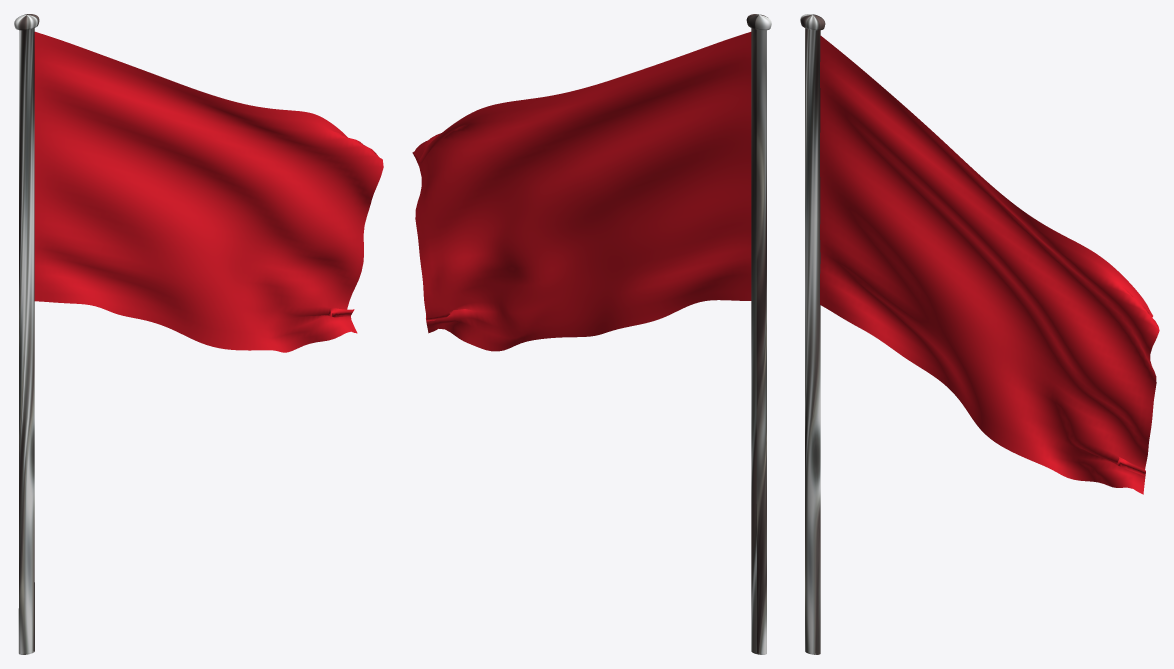
Rendered from flag_red.glb.
The picture shows the model from 3 angles, left to right: view 1: azimuth 30°, elevation 25°; view 2: azimuth 150°, elevation 25°; view 3: azimuth 330°, elevation 25°; orthographic projection.
Parts seen in each view (by area): view 1: Plane013_3, Cylinder013_2; view 2: Plane013_3, Cylinder013_2; view 3: Plane013_3, Cylinder013_2.
Boxes of the visible parts, x1,y1,x2,y2 form: Plane013_3: (34, 31, 383, 352); Cylinder013_2: (14, 14, 39, 654); Plane013_3: (412, 32, 751, 351); Cylinder013_2: (746, 14, 771, 654); Plane013_3: (820, 35, 1159, 494); Cylinder013_2: (800, 14, 825, 654).
Bounding box in the file's own units: 2.29 × 3.85 × 0.1627.
Materials: 2 (1 with a texture image).
